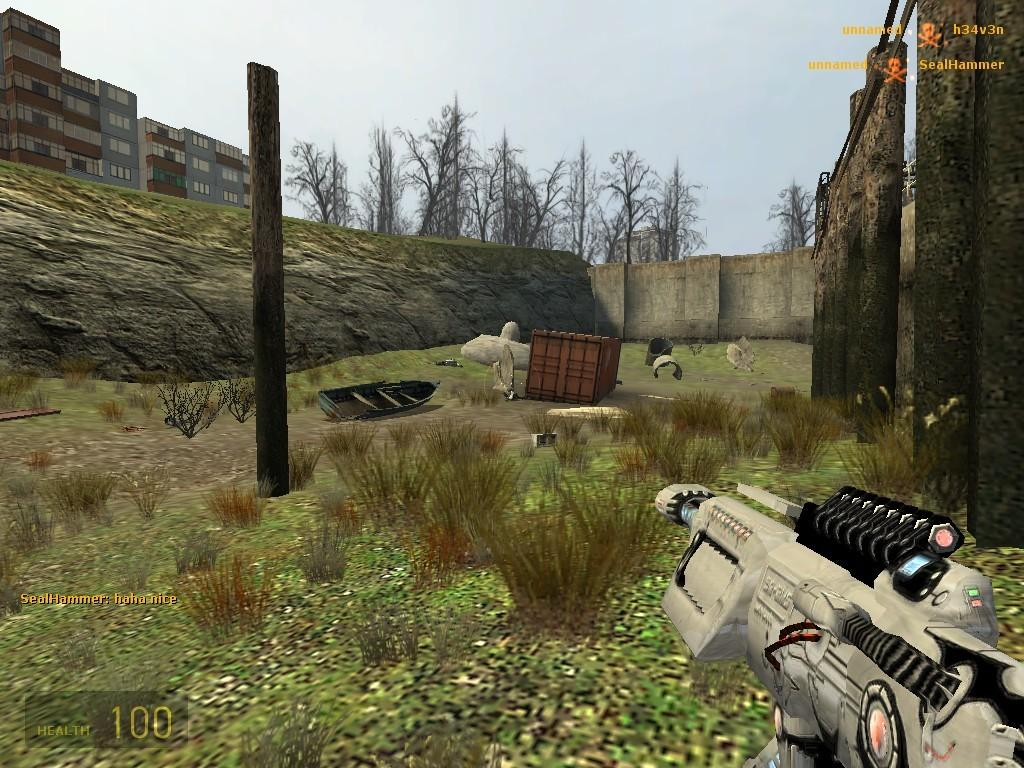Rifle: (658, 487, 1023, 767)
